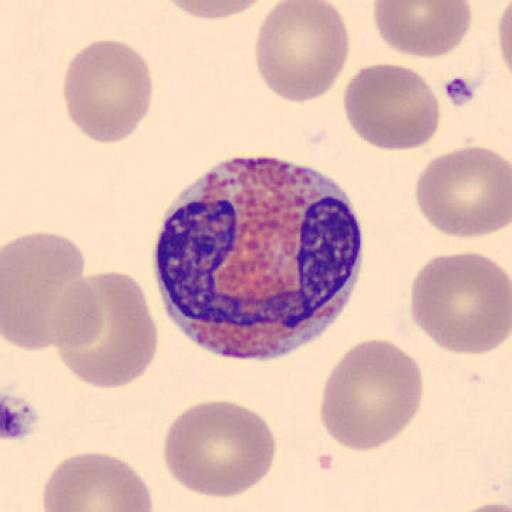RBC: (52, 269, 158, 391), (319, 336, 425, 452), (161, 399, 278, 499), (409, 250, 511, 357), (2, 229, 88, 352), (253, 0, 350, 104), (62, 38, 154, 145), (413, 144, 511, 240), (343, 61, 441, 152), (40, 450, 155, 512), (371, 0, 474, 61), (162, 0, 276, 21), (498, 0, 512, 90), (451, 500, 512, 512)
WBC: (150, 156, 366, 360)
